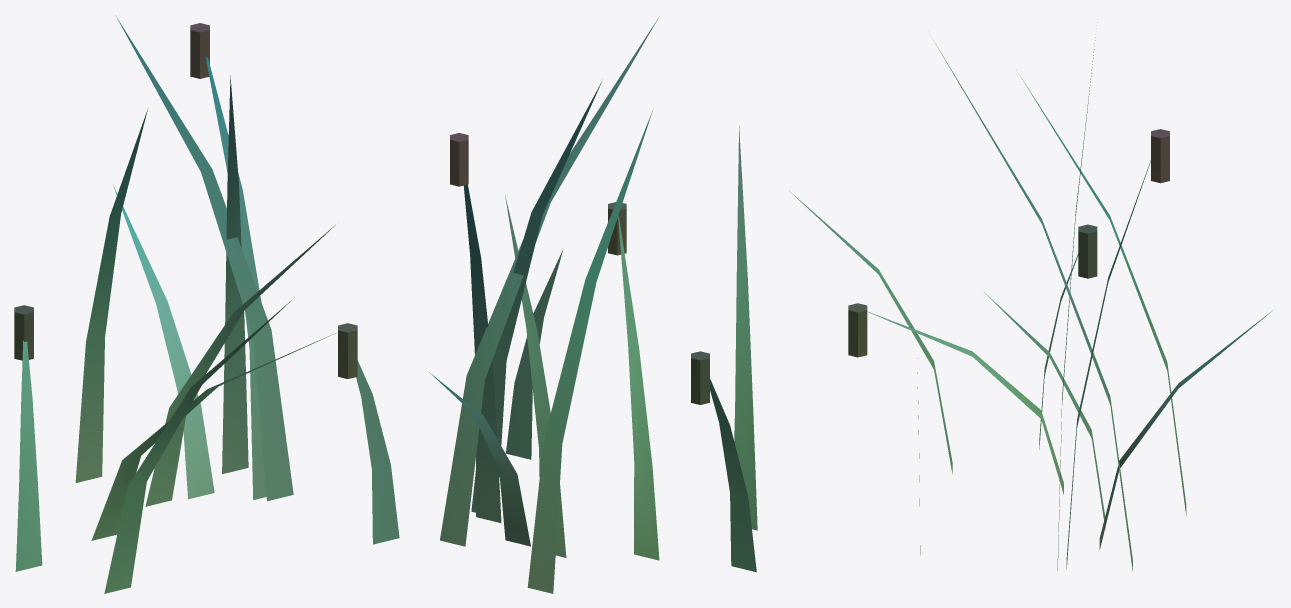
Rendered from reed_clump_dead.glb.
3 views of the same model, side by side, from view 1: azimuth 30°, elevation 25°; view 2: azimuth 150°, elevation 25°; view 3: azimuth 270°, elevation 25° (orthographic). The views are drawn at different scales.
Visible parts, largest first — view 1: reeds_dead, reed_stubs; view 2: reeds_dead, reed_stubs; view 3: reeds_dead, reed_stubs.
Part boxes in pixels (left/top/right/bottom): reeds_dead: left=15, top=15, right=399, bottom=593; reed_stubs: left=14, top=23, right=357, bottom=378; reeds_dead: left=429, top=16, right=757, bottom=593; reed_stubs: left=450, top=133, right=709, bottom=404; reeds_dead: left=789, top=37, right=1272, bottom=571; reed_stubs: left=848, top=129, right=1169, bottom=357.
Bounding box in the file's own units: 0.7261 × 1.08 × 0.9869.
